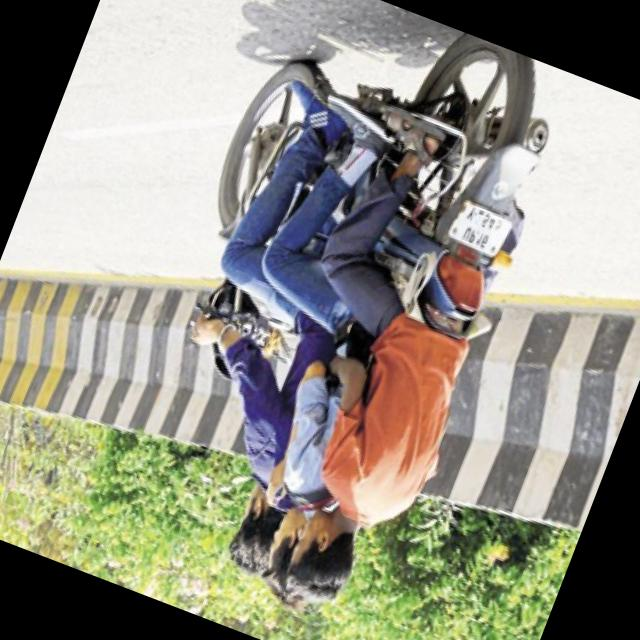bareface: (279, 502, 369, 610), (219, 476, 302, 584), (255, 502, 322, 600)
